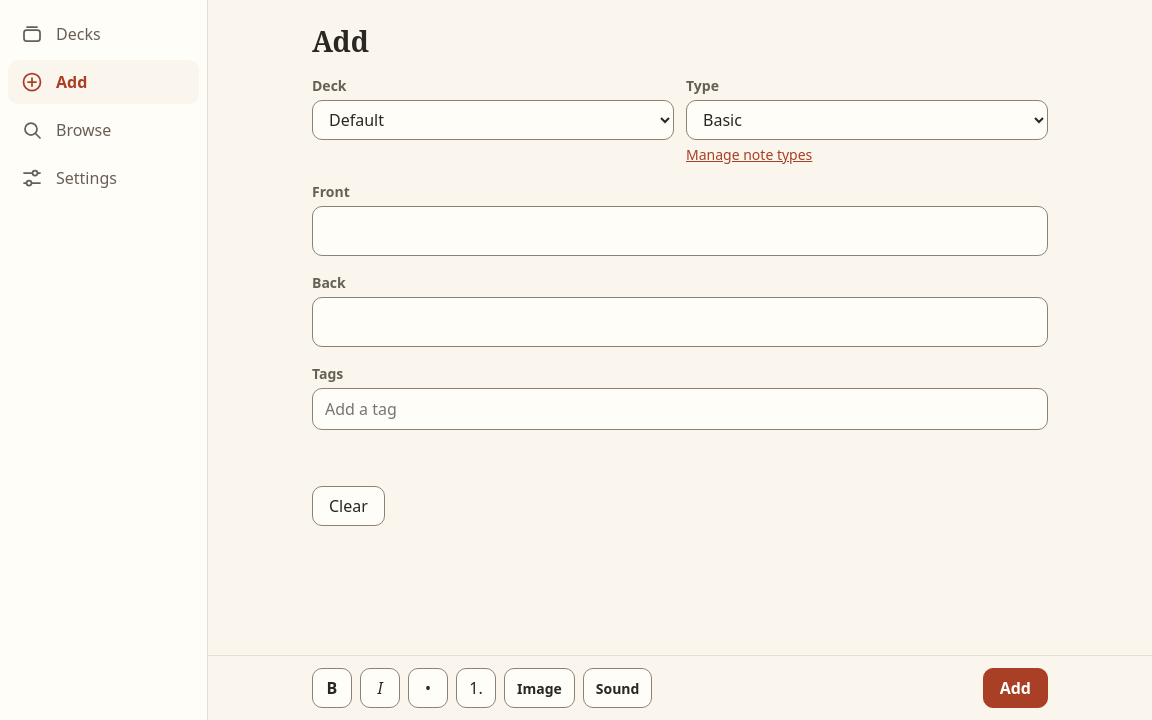
Test: the toolbar and the note type › Cloze is offered for a Cloze note type only
Expected: the dropdown labelled "Deck" is shown, [312, 100, 674, 140]
Expected: the button "Cloze" is not shown
Select "Cloze" in the dropdown labelled "Type" at (867,120), box [686, 100, 1048, 140]
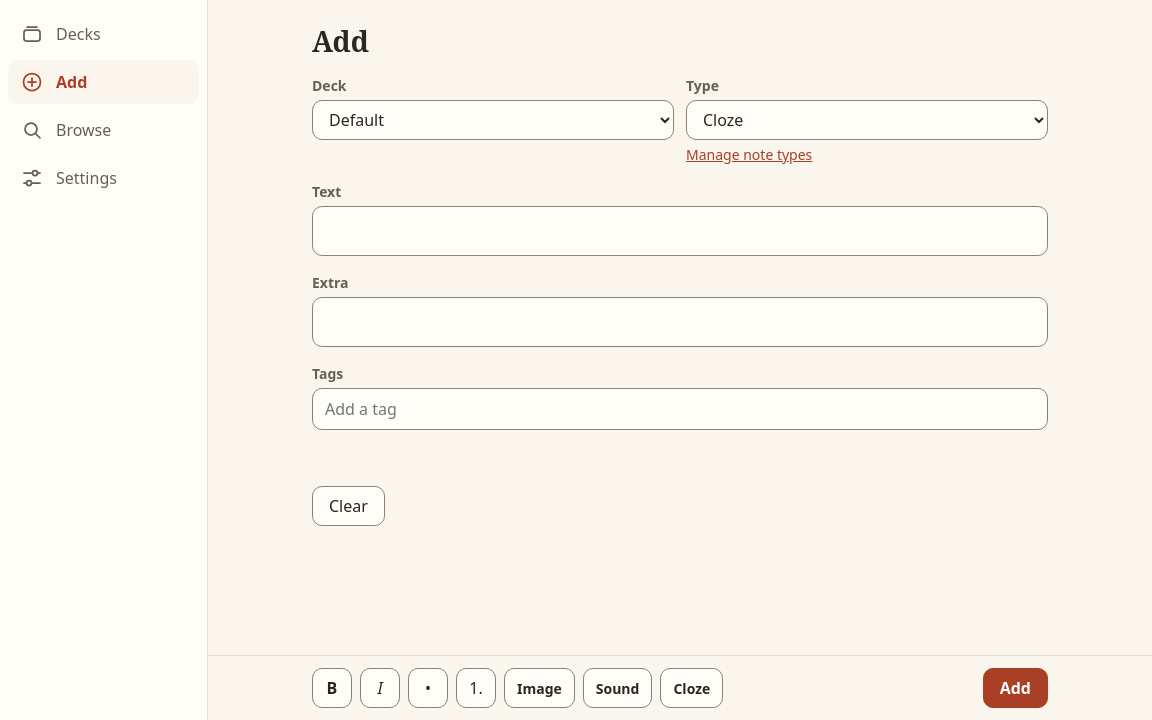
Expected: the button "Cloze" is shown, [660, 668, 723, 708]
